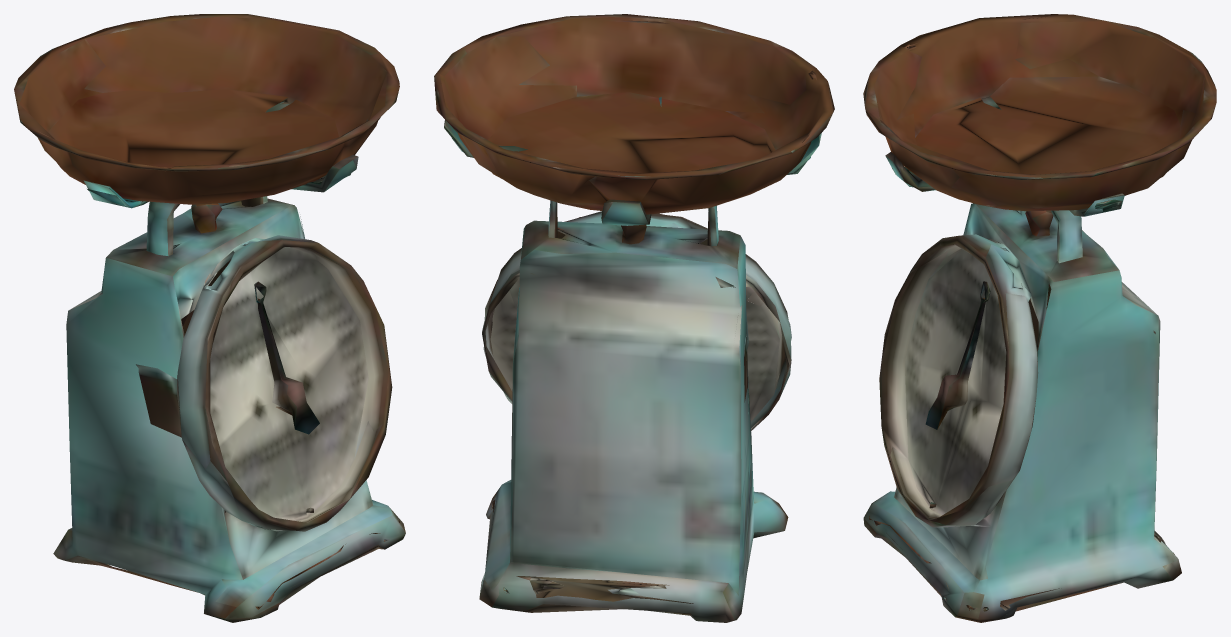
File: balanza.movil.glb
3 views of the same model, side by side, from view 1: azimuth 30°, elevation 25°; view 2: azimuth 150°, elevation 25°; view 3: azimuth 270°, elevation 25° (orthographic). The views are drawn at different scales.
Parts seen in each view (by area): view 1: geometry_0; view 2: geometry_0; view 3: geometry_0.
Boxes of the visible parts, x1,y1,x2,y2 form: geometry_0: (14, 14, 405, 622); geometry_0: (434, 14, 834, 622); geometry_0: (863, 14, 1216, 622).
Bounding box in the file's own units: 0.22 × 0.2799 × 0.1996.
1 material, 1 textured.
